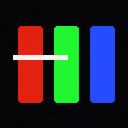3 line_h: (13, 55, 67, 59)
